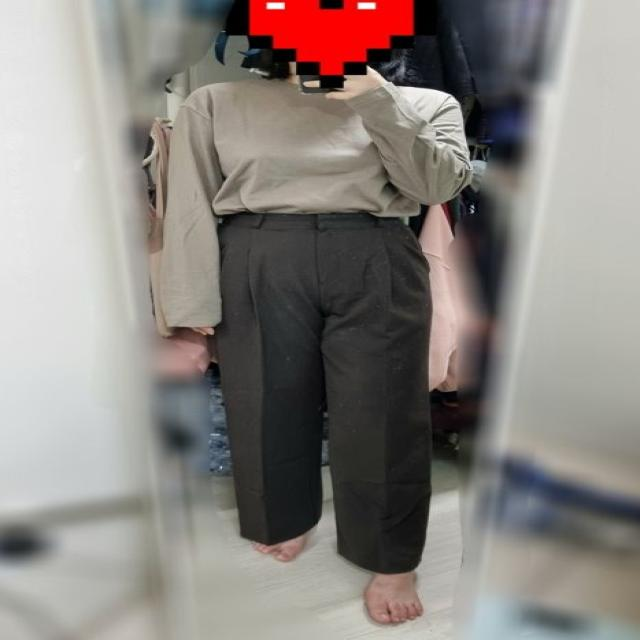longsleeve: (155, 75, 468, 327)
slacks: (208, 214, 433, 573)
